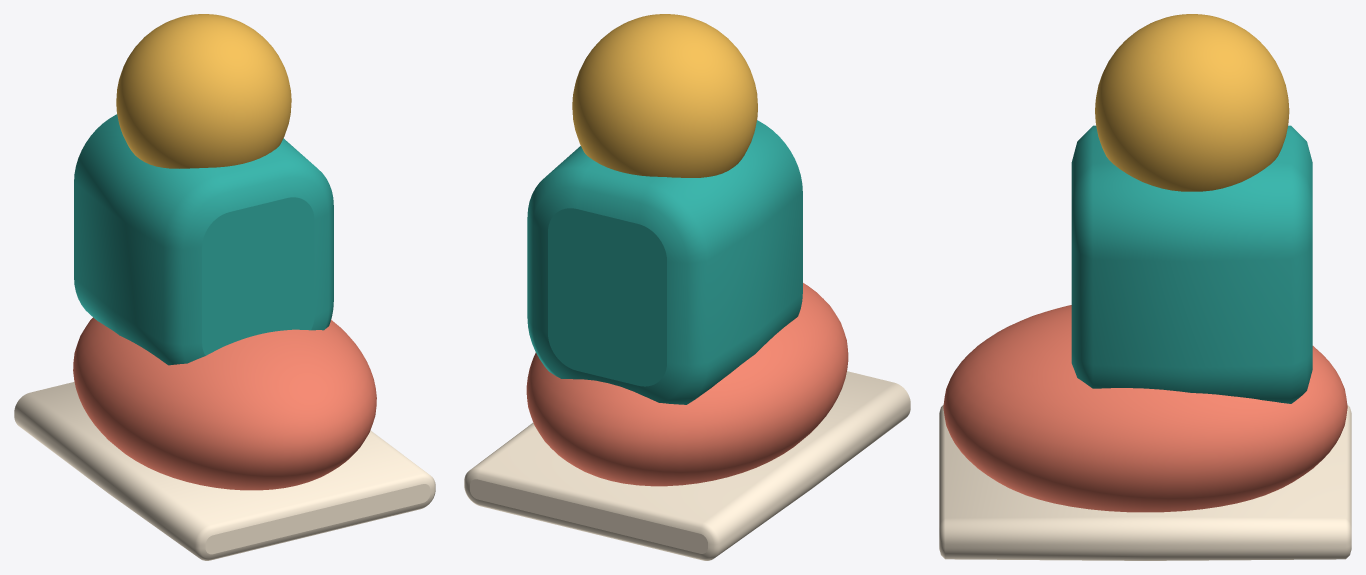
File: part-left-leg.glb
3 renders of one model, left to right at view 1: azimuth 30°, elevation 25°; view 2: azimuth 150°, elevation 25°; view 3: azimuth 270°, elevation 25°, orthographic. The views are drawn at different scales.
Parts seen in each view (by area): view 1: shin-left, shoe-left, sole-left, hip-left; view 2: shin-left, shoe-left, sole-left, hip-left; view 3: shin-left, shoe-left, sole-left, hip-left.
Boxes of the visible parts, x1,y1,x2,y2 form: shin-left: (74,114,333,365); shoe-left: (73,317,376,490); sole-left: (14,382,435,560); hip-left: (116,14,291,168); shin-left: (527,120,802,404); shoe-left: (526,283,848,486); sole-left: (464,371,910,560); hip-left: (572,14,757,177); shin-left: (1071,125,1312,403); shoe-left: (943,305,1347,512); sole-left: (939,405,1351,560); hip-left: (1095,14,1289,191).
Bounding box in the file's own units: 0.8 × 1.36 × 1.06.
